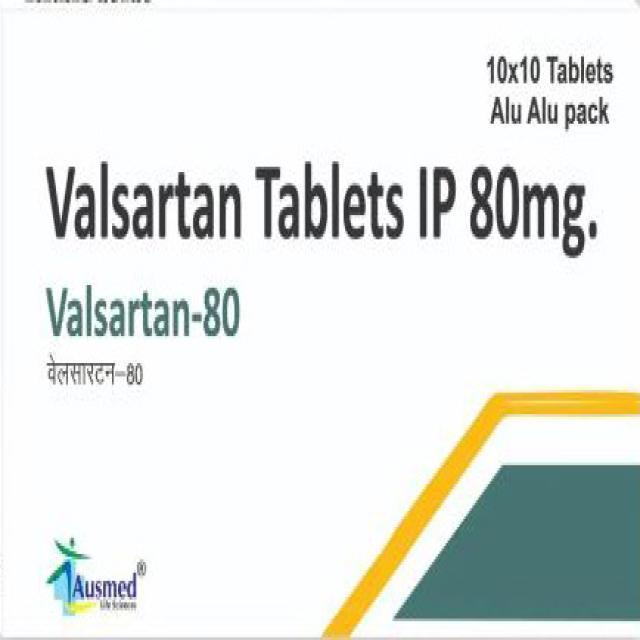drug-name: (42, 282, 240, 348)
